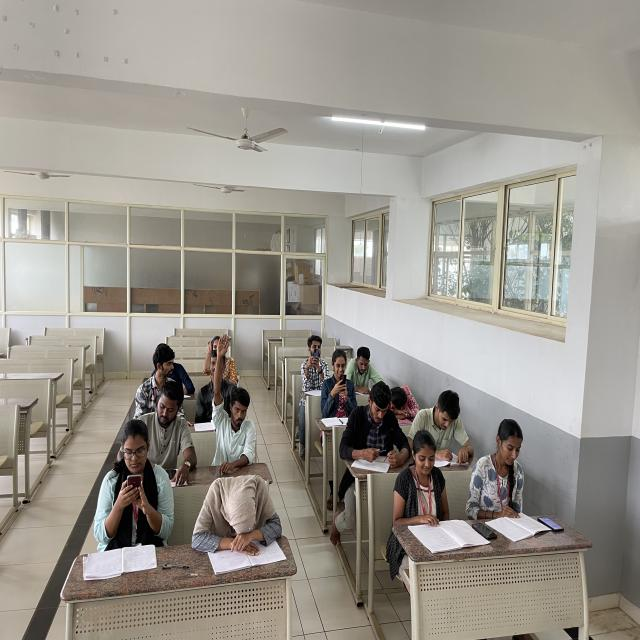Hand Rising: (212, 332, 258, 457)
Reading: (396, 432, 469, 552), (474, 421, 537, 528), (410, 385, 473, 466), (348, 347, 382, 399)
Sleeping: (193, 470, 284, 564), (380, 371, 429, 432)
Using Phone: (96, 416, 166, 531), (326, 350, 356, 420), (300, 336, 328, 393)
Writing: (350, 384, 402, 474)
